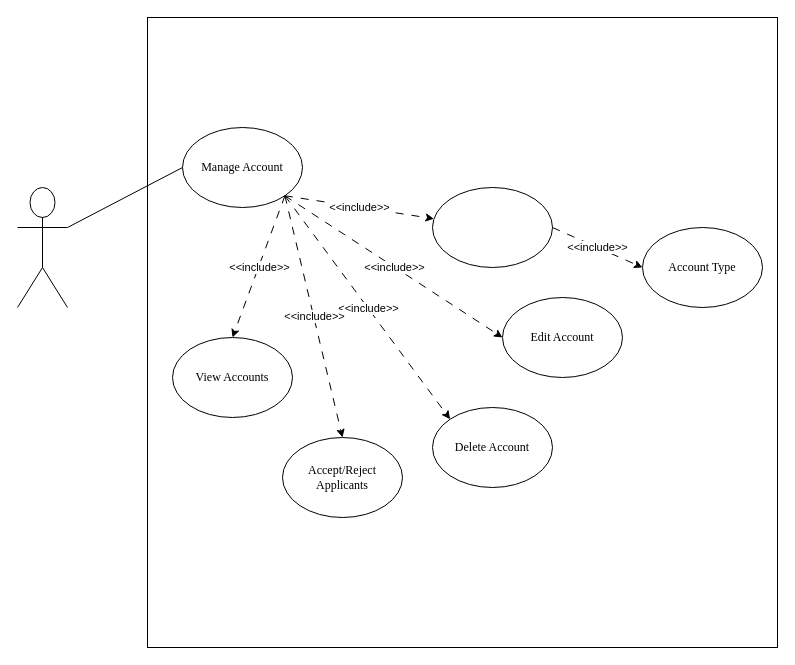
Some shapes in this 795 by 665 pixel diagram are drawn without their labels. Here are the shapes that lost their labels. From the top down, the centre of each, then its label:
[42,247]: Admin
[492,227]: Create Account
